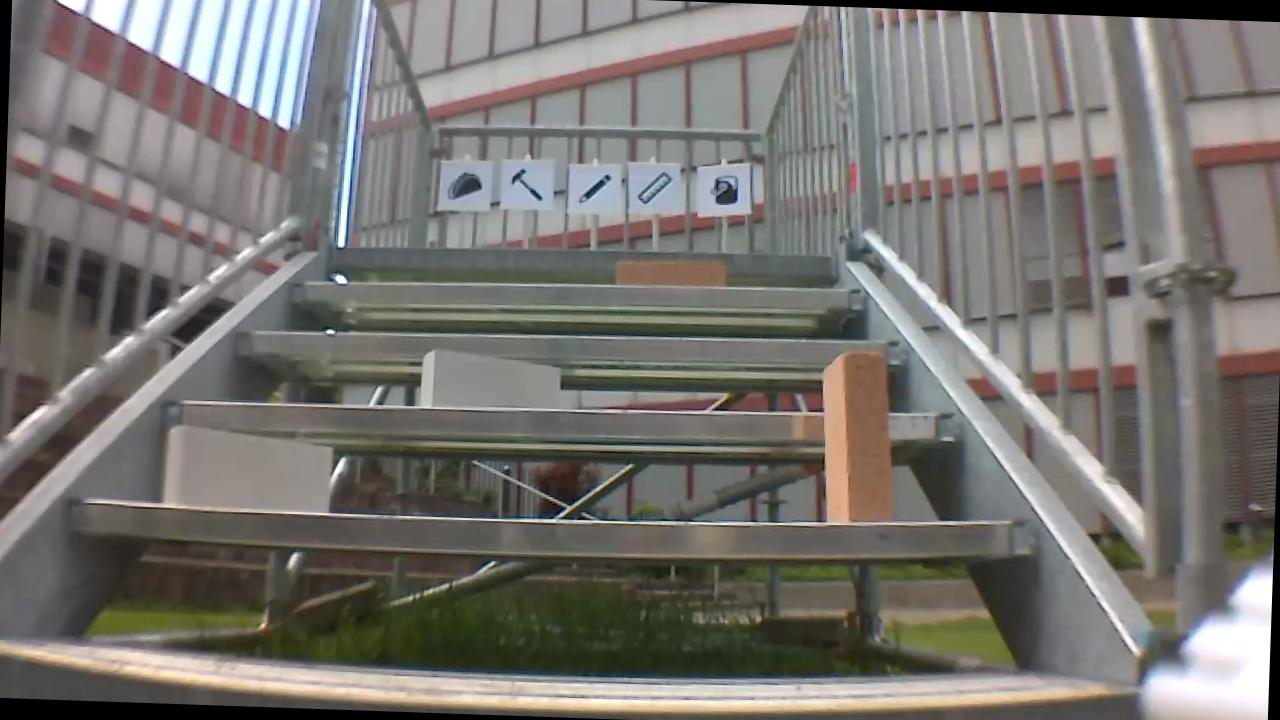brick: (164, 424, 331, 512), (817, 351, 896, 525), (420, 349, 560, 409), (614, 258, 726, 287)
bucket: (703, 169, 746, 210)
edge: (66, 489, 1037, 572), (160, 385, 965, 452), (235, 319, 902, 371), (288, 268, 868, 317), (327, 236, 837, 278)
hammer: (502, 161, 548, 204)
pencil: (573, 166, 617, 208)
ruler: (631, 165, 675, 207)
taco: (438, 164, 487, 204)
